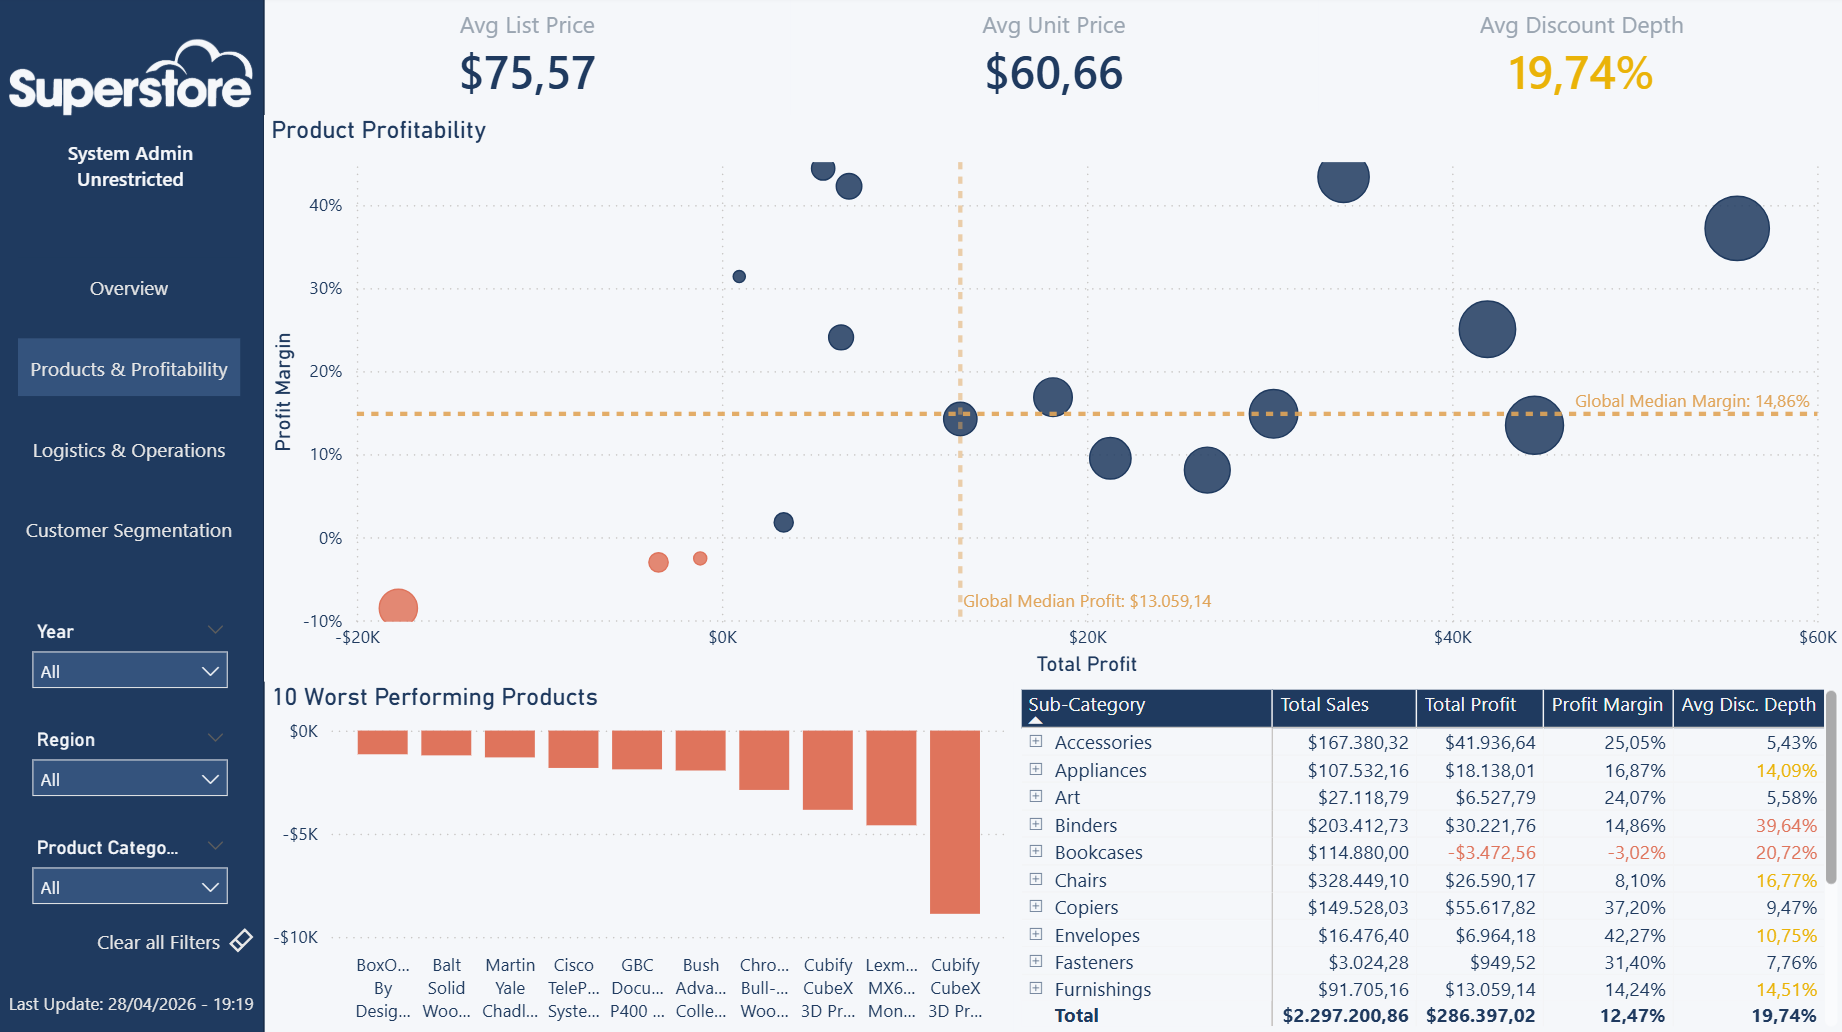

The page's visual inventory and layout, read from the dashboard file:
{"tool":"powerbi","page":{"name":"Products & Profitability","canvas":[1280,720],"ordinal":1},"visuals":[{"type":"cardVisual","fields":{"Data":["_Measures.Avg List Price"]},"box":[185.4,0,365,83.4],"z":0},{"type":"cardVisual","fields":{"Data":["_Measures.Discount Depth"]},"box":[915.4,0,365,83.4],"z":1000},{"type":"cardVisual","fields":{"Data":["_Measures.Avg Unit Price"]},"box":[550.4,0,365,83.4],"z":2000},{"type":"clusteredColumnChart","title":"10 Worst Performing Products","fields":{"Category":["dim_products.Product Name"],"Y":["_Measures.Total Profit"]},"box":[185.4,476.2,519.1,243.3],"z":3000},{"type":"shape","box":[0,0,185.4,719.6],"z":4000},{"type":"scatterChart","title":"Product Profitability","fields":{"Category":["dim_products.Sub-Category","dim_products.Product Name"],"Y":["_Measures.Profit Margin"],"Size":["_Measures.Profit/Loss Magnitude"],"X":["_Measures.Total Profit"]},"box":[185.4,83.4,1095,392.8],"z":5000},{"type":"pivotTable","fields":{"Rows":["dim_products.Sub-Category","dim_products.Product Name"],"Values":["_Measures.Total Sales","_Measures.Total Profit","_Measures.Profit Margin","_Measures.Avg Discount Depth"]},"box":[704.5,476.2,575.9,243.3],"z":6000},{"type":"slicer","fields":{"Values":["dim_geo_ship.Region"]},"box":[14.6,503.3,155.3,60],"z":7000},{"type":"slicer","fields":{"Values":["dim_shipping_dates.Year"]},"box":[14.6,428.3,155.3,60],"z":8000},{"type":"slicer","fields":{"Values":["dim_products.Category"]},"box":[14.6,578.3,155.3,60],"z":9000},{"type":"image","box":[8.3,11.4,169.4,90.4],"z":10000},{"type":"cardVisual","fields":{"Data":["_Measures.Active User Territory"]},"box":[0,88.4,185,56.1],"z":11000},{"type":"actionButton","box":[65.5,641.4,119.5,28.1],"z":12000},{"type":"pageNavigator","box":[14.6,181.9,154.9,208.9],"z":13000},{"type":"cardVisual","fields":{"Data":["_Measures.Data Vintage"]},"box":[0,675.3,186.1,44.7],"z":14000}]}

Visuals, with their boxes on the page's 1280x720 design canvas (x1, y1, x2, y2). These are canvas units, not pixel positions in the 1842x1032 screenshot, which may show the page scaled, cropped or inside an application window:
cardVisual - _Measures.Avg List Price: 185, 0, 550, 83
cardVisual - _Measures.Discount Depth: 915, 0, 1280, 83
cardVisual - _Measures.Avg Unit Price: 550, 0, 915, 83
"10 Worst Performing Products" clusteredColumnChart: 185, 476, 704, 720
shape: 0, 0, 185, 720
"Product Profitability" scatterChart: 185, 83, 1280, 476
pivotTable - dim_products.Sub-Category x dim_products.Product Name: 704, 476, 1280, 720
slicer - dim_geo_ship.Region: 15, 503, 170, 563
slicer - dim_shipping_dates.Year: 15, 428, 170, 488
slicer - dim_products.Category: 15, 578, 170, 638
image: 8, 11, 178, 102
cardVisual - _Measures.Active User Territory: 0, 88, 185, 144
actionButton: 66, 641, 185, 670
pageNavigator: 15, 182, 170, 391
cardVisual - _Measures.Data Vintage: 0, 675, 186, 720
